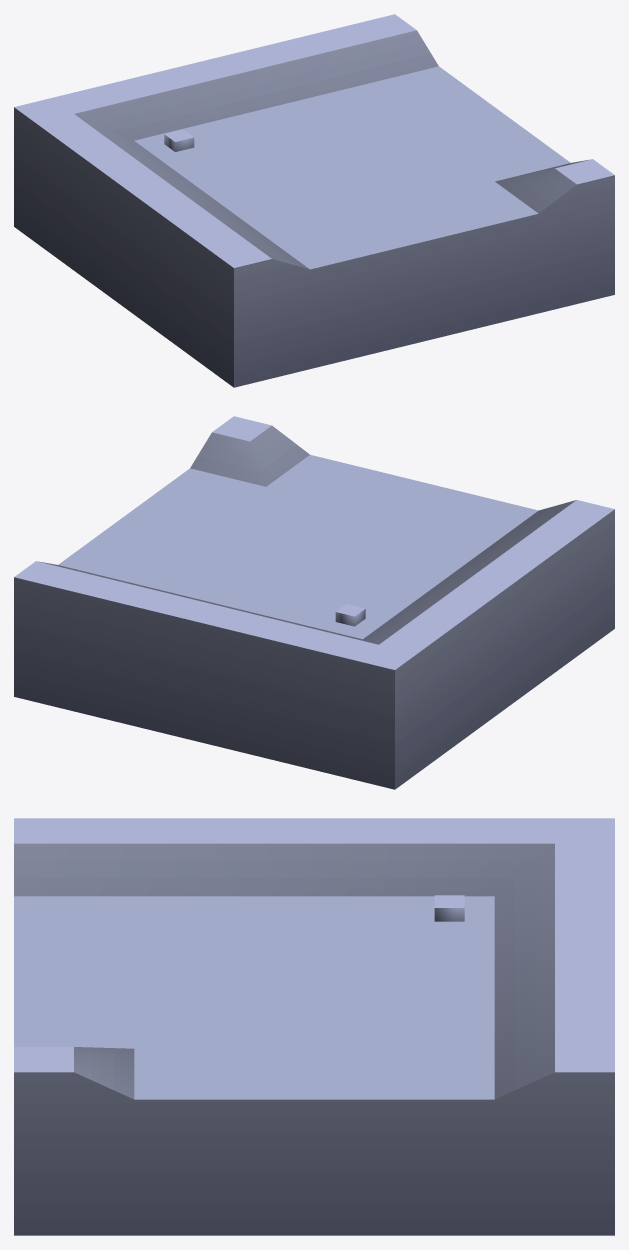
The model's file is kenney-space-station-floor-panel-corner.glb.
3 renders of one model, top to bottom at view 1: azimuth 30°, elevation 25°; view 2: azimuth 150°, elevation 25°; view 3: azimuth 270°, elevation 25°, orthographic. The views are drawn at different scales.
Visible parts, largest first — view 1: floor-panel-corner; view 2: floor-panel-corner; view 3: floor-panel-corner.
Part boxes in pixels (x1,y1,x2,y2): floor-panel-corner: [14, 14, 614, 387]; floor-panel-corner: [14, 416, 614, 789]; floor-panel-corner: [14, 818, 614, 1235].
Size of the model in its own units: 1 by 0.3 by 1.
1 material, 1 textured.
